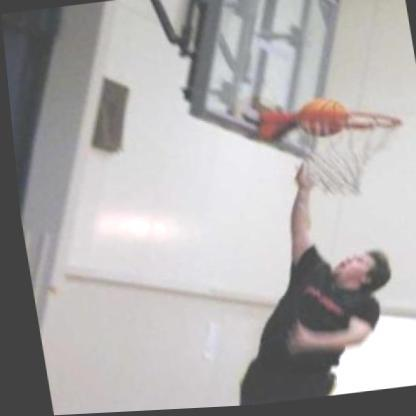basketball: (297, 100, 346, 141)
